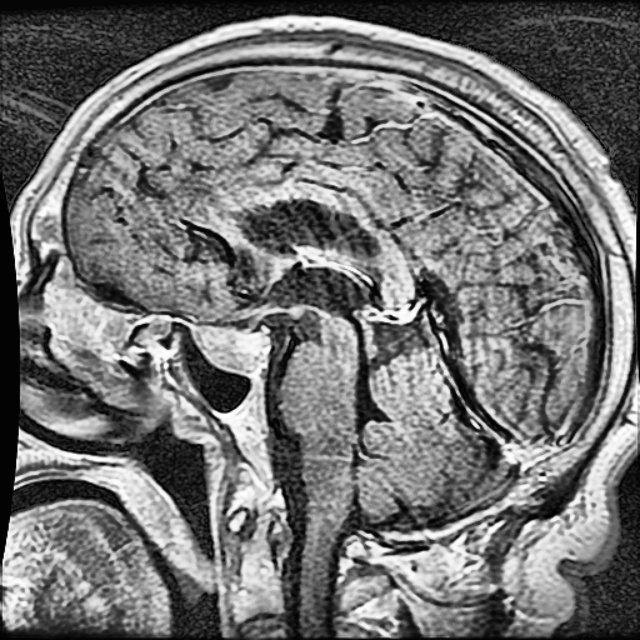Pituitary: (190, 324, 270, 375)
